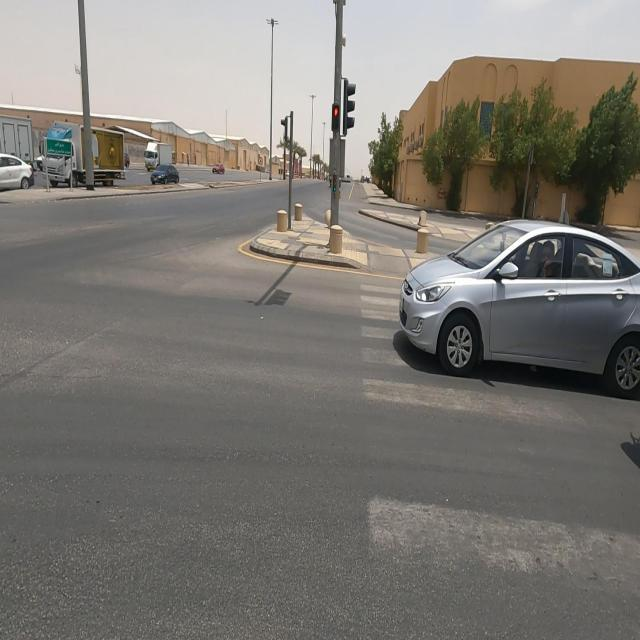debris: (309, 185, 347, 243)
